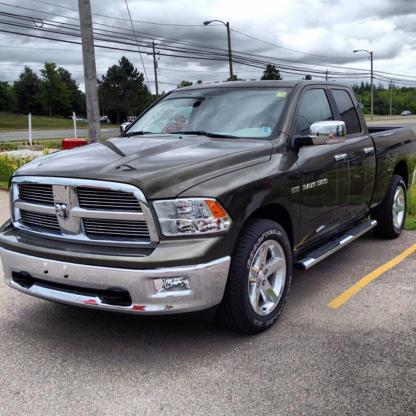Car: (402, 110, 411, 116)
Truck: (0, 80, 415, 335)
